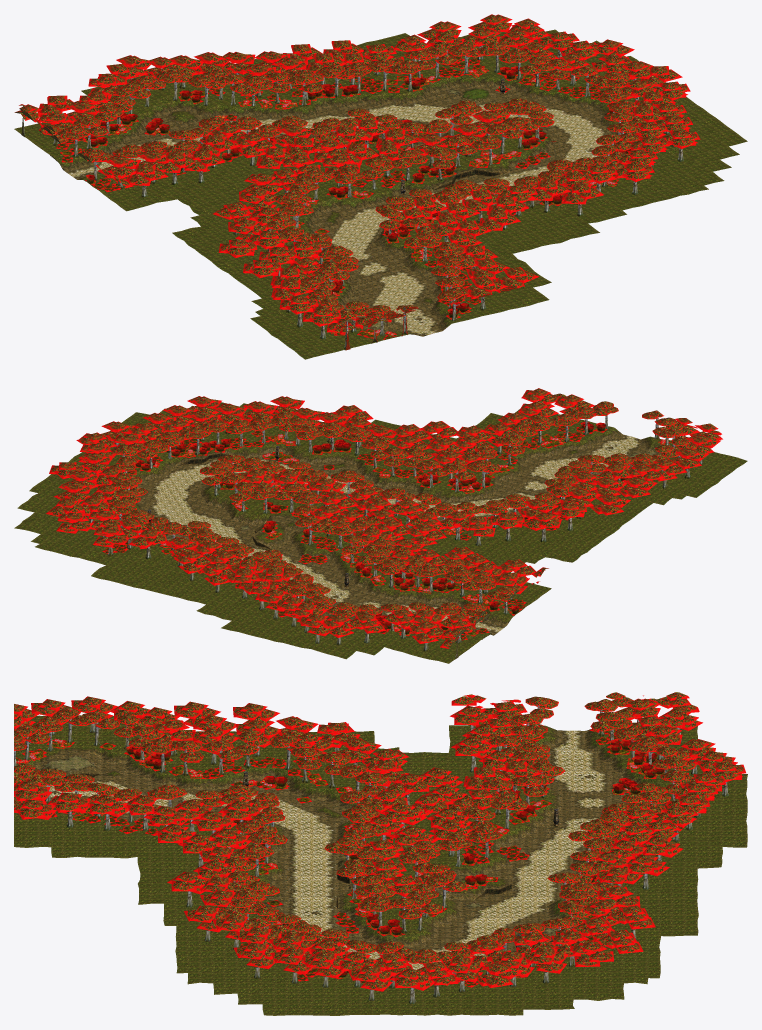
The model's file is EastBoseHighway3.obj.
The picture shows the model from 3 angles, top to bottom: view 1: azimuth 30°, elevation 25°; view 2: azimuth 150°, elevation 25°; view 3: azimuth 270°, elevation 25°; orthographic projection. The views are drawn at different scales.
Parts seen in each view (by area): view 1: Object.003, Object.004; view 2: Object.004, Object.003; view 3: Object.004, Object.003.
Part boxes in pixels (x1=…): Object.003: x1=172, y1=81, x2=747, y2=359; Object.004: x1=14, y1=14, x2=693, y2=224; Object.004: x1=14, y1=429, x2=551, y2=663; Object.003: x1=100, y1=388, x2=747, y2=562; Object.004: x1=381, y1=692, x2=747, y2=1015; Object.003: x1=14, y1=696, x2=380, y2=1015.
Bounding box in the file's own units: 114 × 7.3 × 118.
12 materials, 12 textured.
